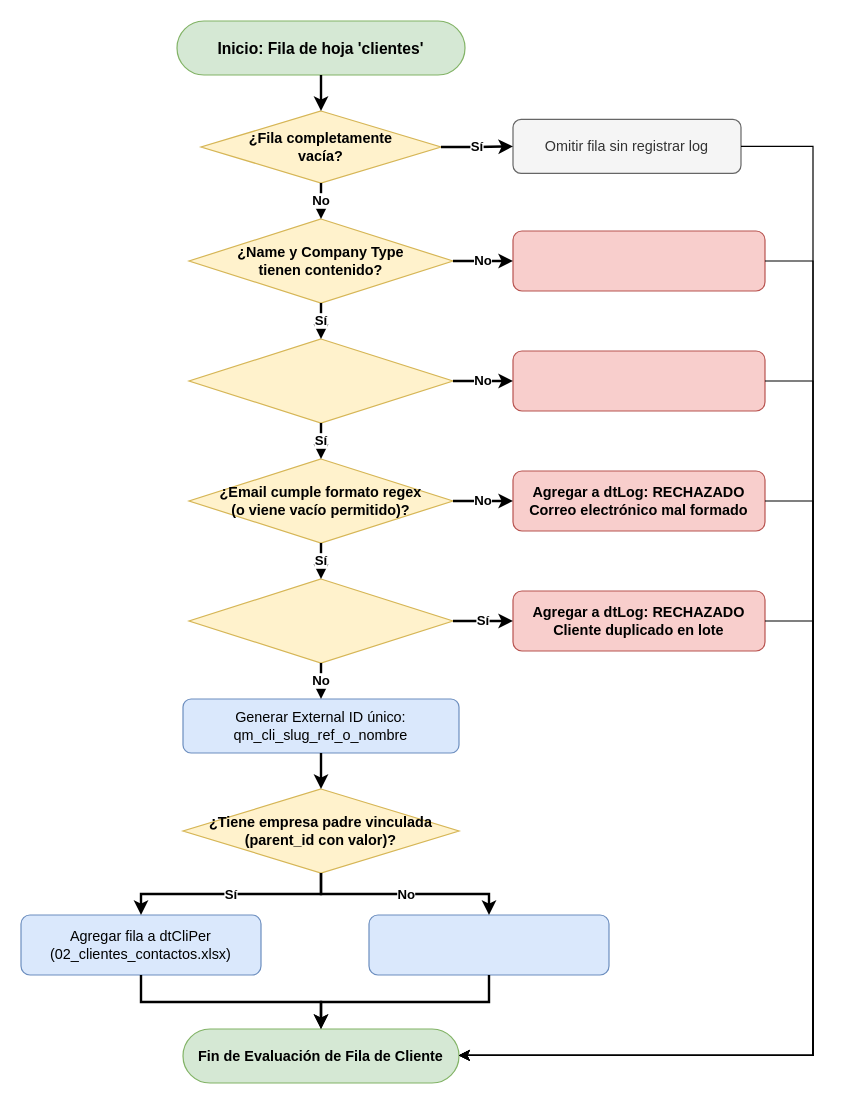
Some shapes in this 844 by 1104 pixel diagram are drawn without their labels. Here are the shapes that lost their labels. From the top down, the centre of each, then its label:
At point (638, 260): "Agregar a dtLog: RECHAZADO Faltan campos obligatorios".
At point (320, 380): "¿Company Type es Person o Company?".
At point (638, 380): "Agregar a dtLog: RECHAZADO Tipo de compañía no reconocido".
At point (320, 620): "¿Tupla (Name, Email) ya existe en memoria?".
At point (488, 944): "Agregar fila a dtCliEmp (01_clientes_empresas.xlsx)".
